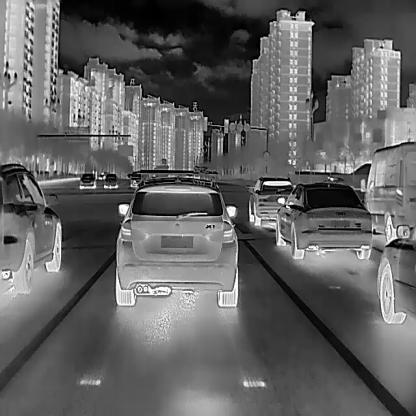car: (111, 173, 240, 307), (0, 161, 63, 294), (274, 180, 374, 261), (360, 137, 415, 246), (375, 220, 415, 325), (246, 174, 295, 227), (78, 171, 97, 190), (102, 171, 118, 189), (129, 170, 140, 188)
